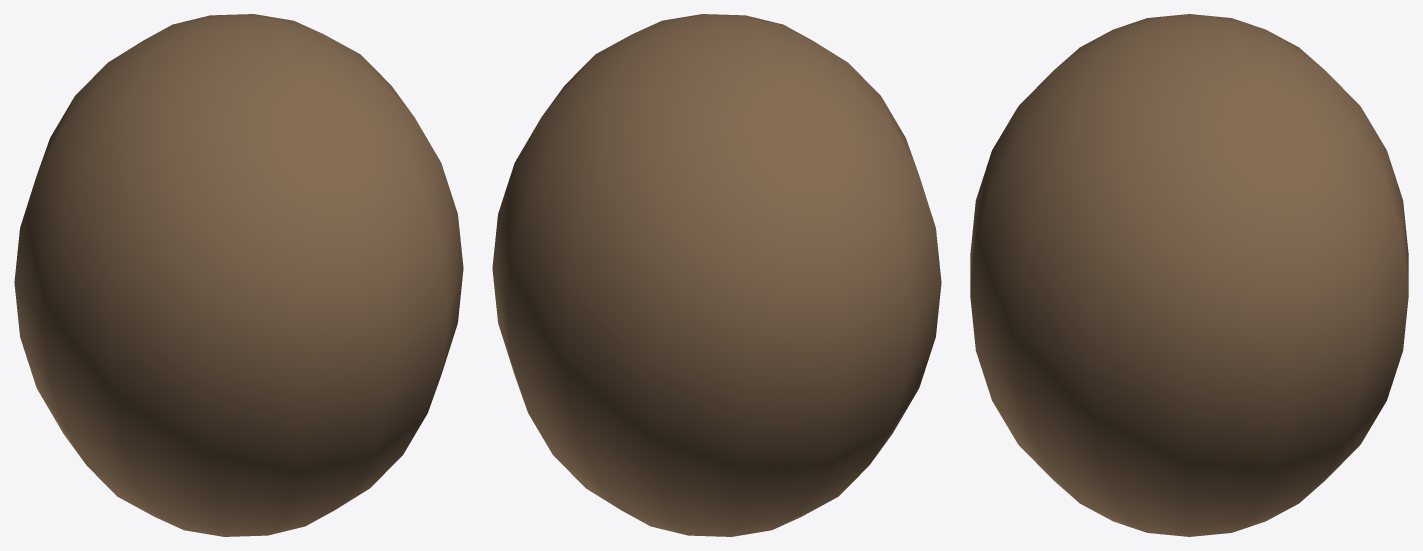
File: Lodinho_stage3.obj
The picture shows the model from 3 angles, left to right: view 1: azimuth 30°, elevation 25°; view 2: azimuth 150°, elevation 25°; view 3: azimuth 270°, elevation 25°; orthographic projection.
Size of the model in its own units: 2.6 by 3.12 by 2.53.
